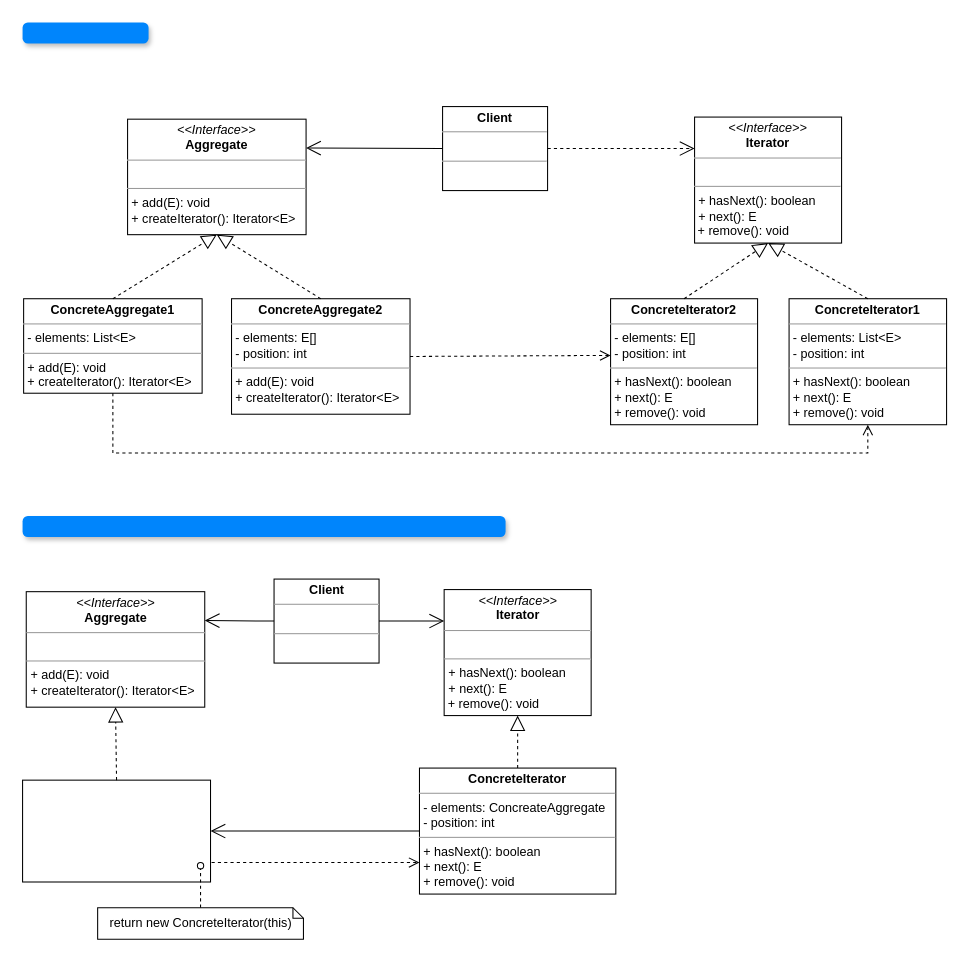
Some shapes in this 965 by 958 pixel diagram are drawn without their labels. Here are the shapes that lost their labels. From the top down, the centre of each, then its label:
At point 86,34: "与示例代码匹配的".
At point 264,527: "与示例代码不匹配的，但是符合实际Collection和Iterator相关接口的设计".
At point 116,830: "ConcreteAggregate + add(E): void + createIterator(): Iterator<E>".
